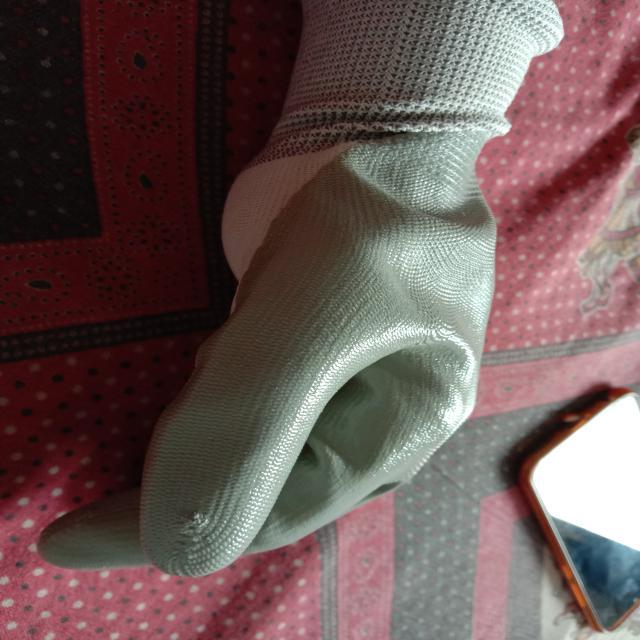gloved_hand: (29, 0, 583, 578)
